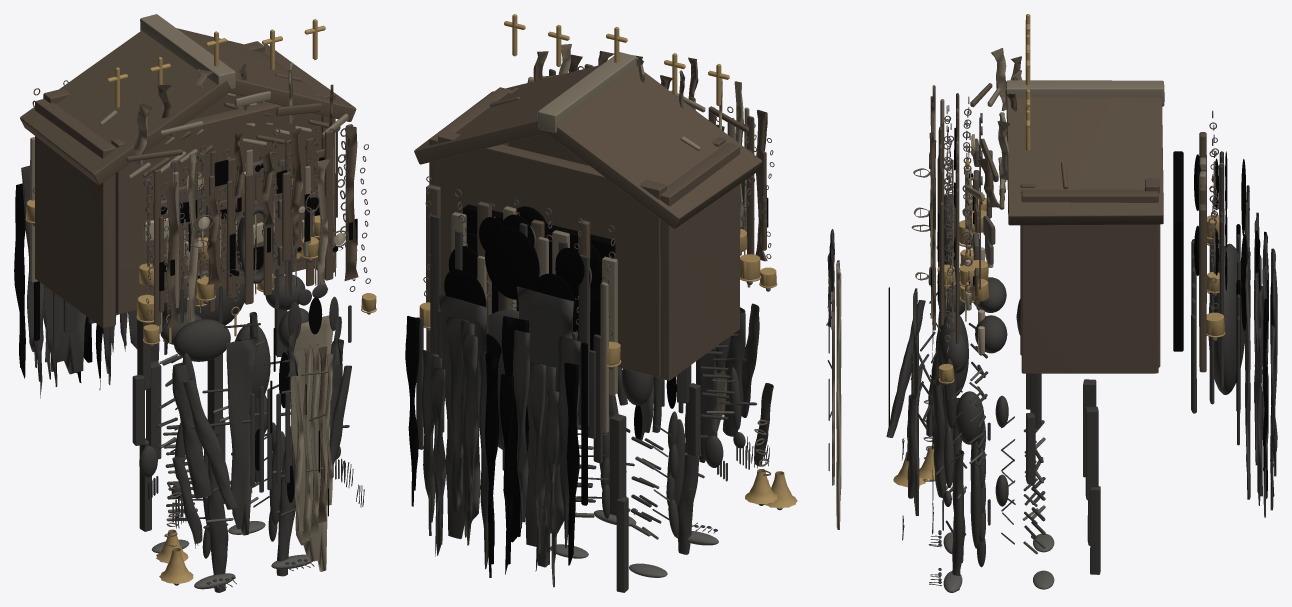
File: penance_carrier_end_goal_v11_9_ragged_hood_door_silhouette.glb
3 views of the same model, side by side, from view 1: azimuth 30°, elevation 25°; view 2: azimuth 150°, elevation 25°; view 3: azimuth 270°, elevation 25° (orthographic). The views are drawn at different scales.
Visible parts, largest first — view 1: PC_V4_shrine_front_rotten_wall, PC_V4_shrine_left_side_wall, PC_V4_roof_left_steep_slab, PC_V11_9_one_piece_long_door_face_slab, PC_V11_left_torn_front_cloak_sheet, PC_V4_roof_right_steep_slab, PC_V4_roof_ridge_heavy_rot, PC_V11_5_left_arm_pinched_wrapped_sculpt, PC_V11_7_left_arm_heavy_bowed_sleeve_end_goal, PC_V11_back_rotten_skin_sheet_left, PC_V11_crushed_left_shoulder_meat, PC_V11_6_back_thin_torn_rag_layer_00 (+44 smaller); view 2: PC_V4_shrine_rear_rotten_wall, PC_V4_roof_left_steep_slab, PC_V4_shrine_left_side_wall, PC_V4_roof_right_steep_slab, PC_V11_back_rotten_skin_sheet_left, PC_V11_back_rotten_skin_sheet_right, PC_V11_back_deep_rotted_hole_01, PC_V4_roof_ridge_heavy_rot, PC_V11_6_back_thin_torn_rag_layer_02, PC_V11_7_back_rotten_interior_tongue_02, PC_V4_back_black_rotten_hollow, PC_V11_5_back_layered_rotten_sheet_04 (+50 smaller); view 3: PC_V4_shrine_right_side_wall, PC_V4_roof_right_steep_slab, PC_V4_roof_ridge_heavy_rot, PC_V11_back_swollen_rotten_under_mass, PC_V4_back_black_rotten_hollow, PC_V11_9_one_piece_long_door_face_slab, PC_V5_back_rotten_vertical_plank_07, PC_V11_back_rotten_skin_sheet_right, PC_V11_5_right_leg_compressed_wrapped_sculpt, PC_V11_5_right_arm_pinched_wrapped_sculpt, PC_V6_right_wrapped_thigh, PC_V11_7_left_arm_heavy_bowed_sleeve_end_goal (+21 smaller).
Boxes of the visible parts, box(x1,y1,x2,y2) form: PC_V4_shrine_front_rotten_wall: box(111, 90, 321, 314); PC_V4_shrine_left_side_wall: box(35, 99, 115, 328); PC_V4_roof_left_steep_slab: box(20, 30, 231, 184); PC_V11_9_one_piece_long_door_face_slab: box(289, 315, 333, 571); PC_V11_left_torn_front_cloak_sheet: box(226, 337, 256, 535); PC_V4_roof_right_steep_slab: box(176, 28, 356, 121); PC_V4_roof_ridge_heavy_rot: box(140, 14, 235, 88); PC_V11_5_left_arm_pinched_wrapped_sculpt: box(172, 362, 212, 498); PC_V11_7_left_arm_heavy_bowed_sleeve_end_goal: box(182, 378, 237, 509); PC_V11_back_rotten_skin_sheet_left: box(44, 285, 86, 374); PC_V11_crushed_left_shoulder_meat: box(174, 319, 230, 361); PC_V11_6_back_thin_torn_rag_layer_00: box(14, 183, 25, 378); PC_V4_shrine_rear_rotten_wall: box(438, 131, 666, 377); PC_V4_roof_left_steep_slab: box(547, 66, 762, 228); PC_V4_shrine_left_side_wall: box(657, 142, 740, 380); PC_V4_roof_right_steep_slab: box(414, 65, 598, 164); PC_V11_back_rotten_skin_sheet_left: box(516, 286, 574, 546); PC_V11_back_rotten_skin_sheet_right: box(438, 294, 487, 538); PC_V11_back_deep_rotted_hole_01: box(485, 227, 539, 299); PC_V4_roof_ridge_heavy_rot: box(537, 52, 636, 132); PC_V11_6_back_thin_torn_rag_layer_02: box(512, 329, 530, 528); PC_V11_7_back_rotten_interior_tongue_02: box(462, 333, 478, 545); PC_V4_back_black_rotten_hollow: box(463, 204, 615, 350); PC_V11_5_back_layered_rotten_sheet_04: box(446, 316, 469, 510); PC_V4_shrine_right_side_wall: box(1021, 189, 1158, 373); PC_V4_roof_right_steep_slab: box(1006, 97, 1163, 225); PC_V4_roof_ridge_heavy_rot: box(1006, 80, 1164, 105); PC_V11_back_swollen_rotten_under_mass: box(1208, 243, 1245, 394); PC_V4_back_black_rotten_hollow: box(1173, 151, 1183, 351); PC_V11_9_one_piece_long_door_face_slab: box(836, 260, 841, 529); PC_V5_back_rotten_vertical_plank_07: box(1199, 204, 1206, 372); PC_V11_back_rotten_skin_sheet_right: box(1245, 251, 1250, 499); PC_V11_5_right_leg_compressed_wrapped_sculpt: box(952, 449, 963, 590); PC_V11_5_right_arm_pinched_wrapped_sculpt: box(932, 378, 946, 498); PC_V6_right_wrapped_thigh: box(1085, 406, 1098, 500); PC_V11_7_left_arm_heavy_bowed_sleeve_end_goal: box(886, 300, 925, 437).
Bounding box in the file's own units: 2.34 × 4.48 × 3.49.
